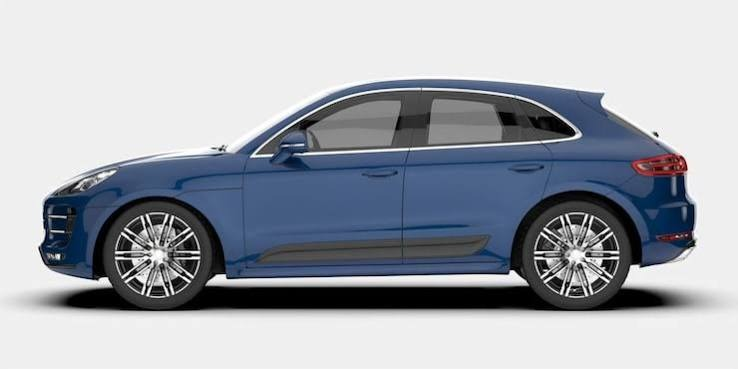car: (43, 93, 694, 310)
